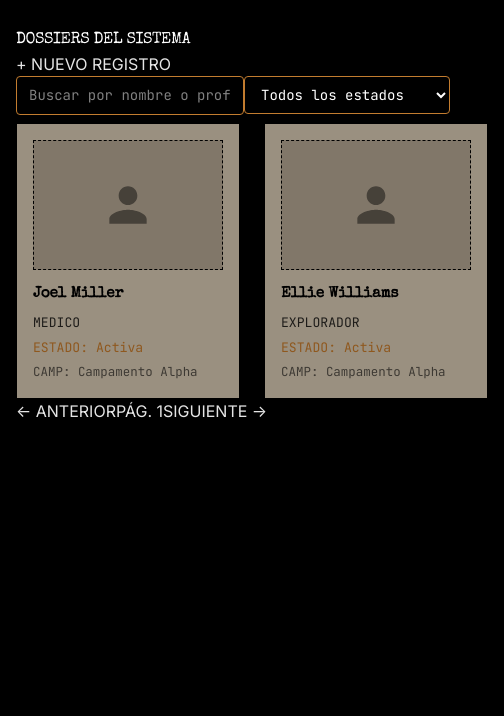
Admin → People › detail / edit / status / delete › shows an error when updatePerson rejects
This screenshot has width=504, height=716.
Click the text "Joel Miller".
click(78, 294)  # box x1=33 y1=286 x2=123 y2=302
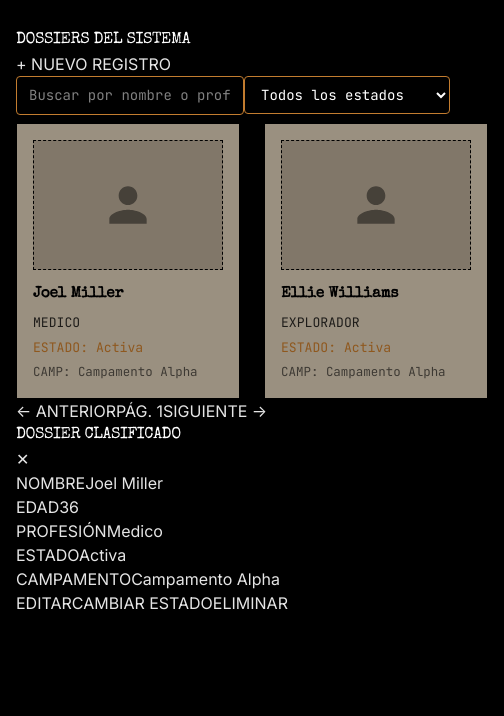
Click the button "EDITAR".
click(44, 603)  # box x1=16 y1=591 x2=72 y2=615
(page scrolled)
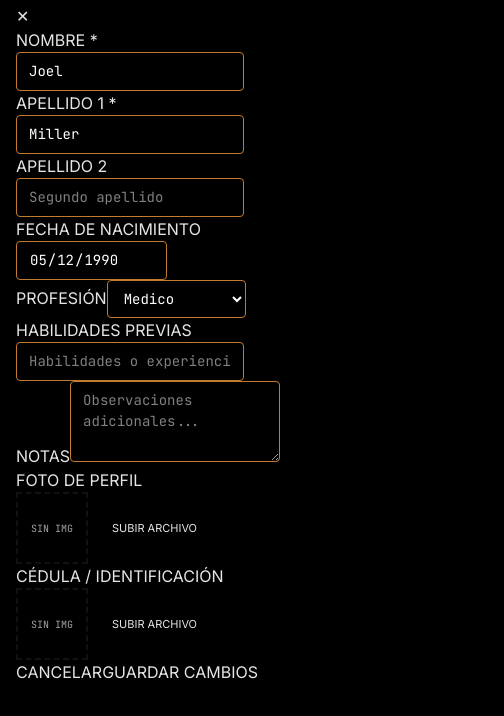
Click the button "GUARDAR CAMBIOS".
click(180, 672)  # box x1=102 y1=660 x2=258 y2=684
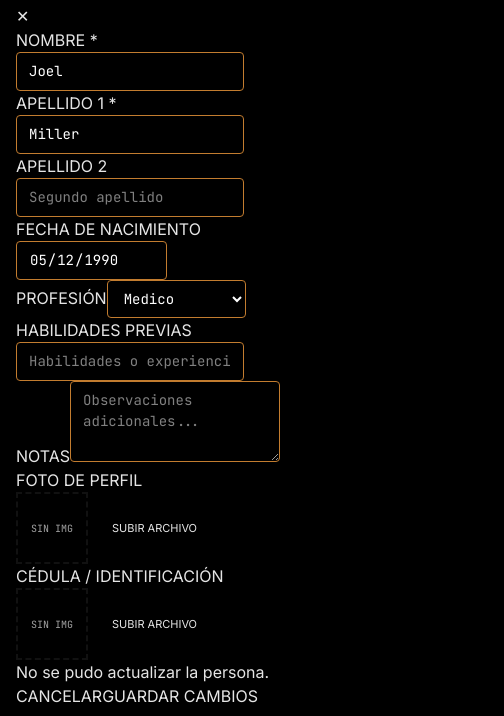
Result: the text "No se pudo actualizar la persona." is shown at x1=16 y1=662 x2=269 y2=682
